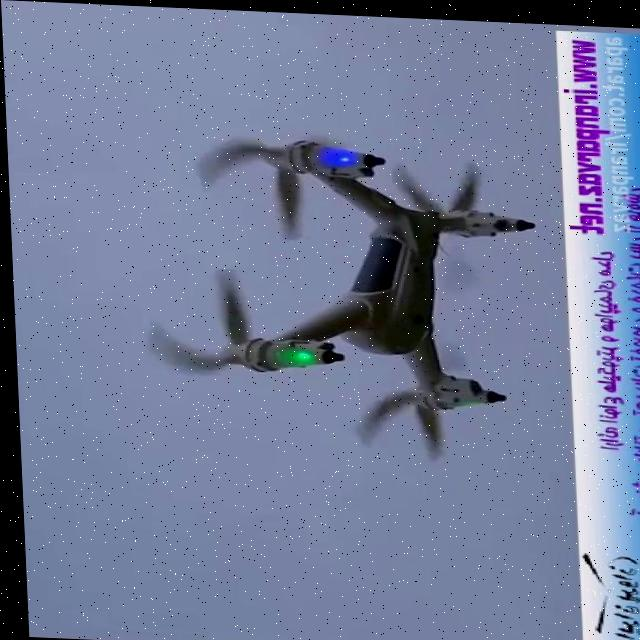drone: (123, 112, 547, 467)
